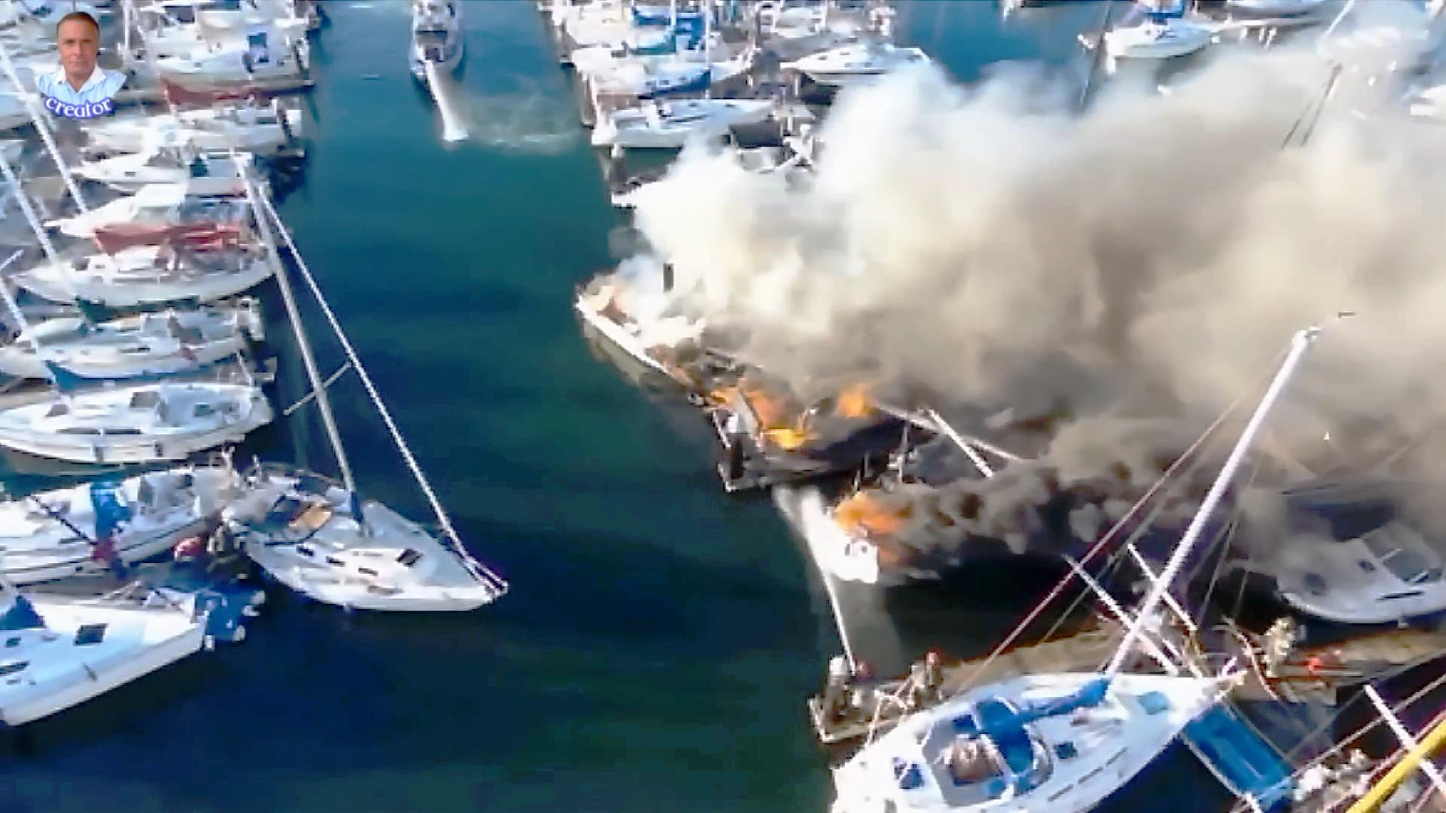fire: (736, 349, 842, 457), (840, 478, 891, 547)
smoke: (757, 112, 1410, 318), (1151, 12, 1446, 448), (914, 455, 1109, 580)
